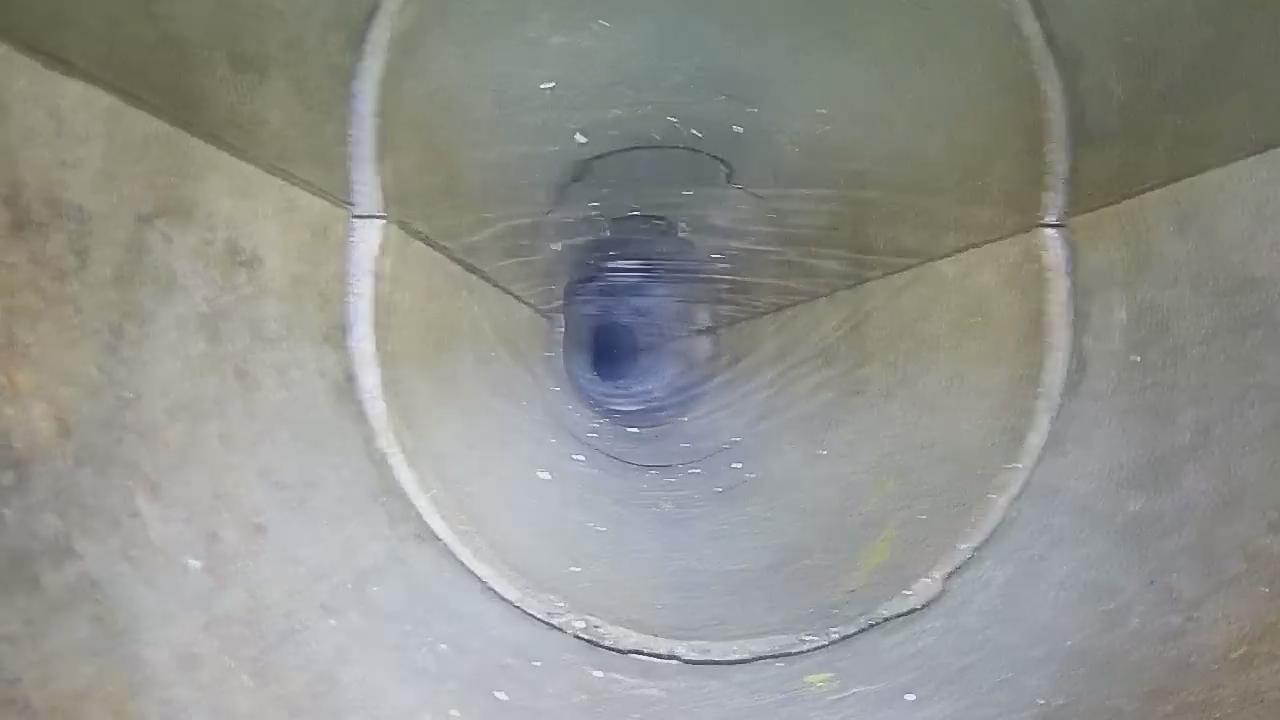CKTJ: (344, 1, 1073, 664)
